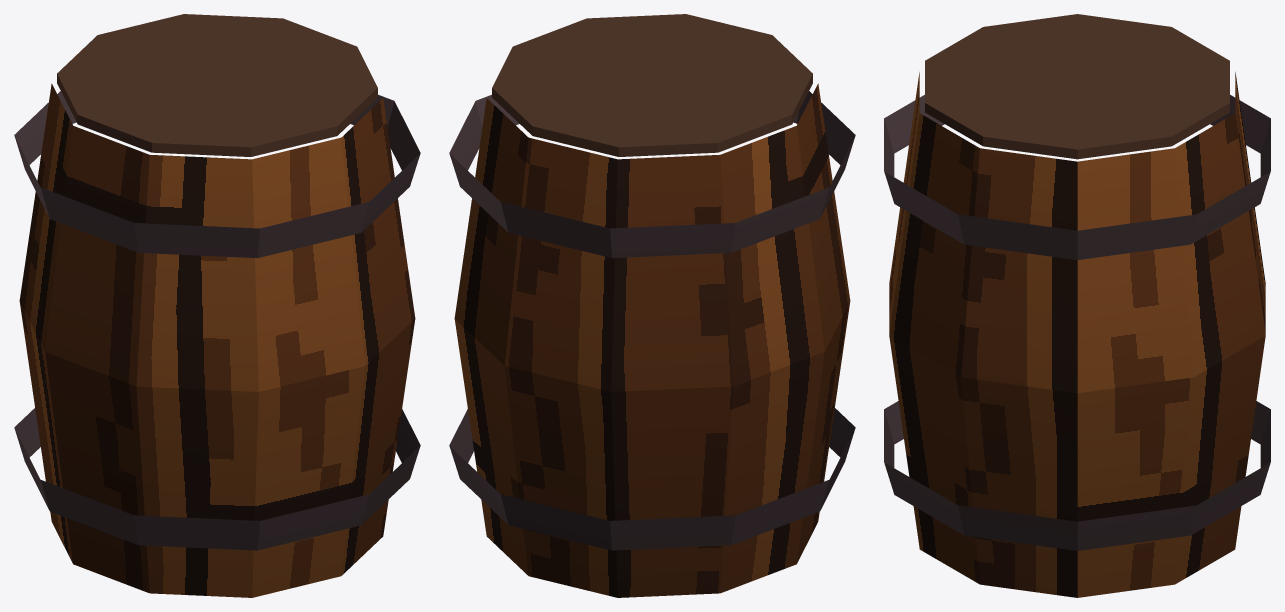
The model's file is barrel.glb.
3 renders of one model, left to right at view 1: azimuth 30°, elevation 25°; view 2: azimuth 150°, elevation 25°; view 3: azimuth 270°, elevation 25°, orthographic.
Parts seen in each view (by area): view 1: barrel; view 2: barrel; view 3: barrel.
Part boxes in pixels (box(x1,y1,x2,y2)): barrel: box(14, 14, 420, 597); barrel: box(449, 14, 855, 597); barrel: box(884, 14, 1270, 597).
Bounding box in the file's own units: 0.76 × 0.92 × 0.7228.
2 materials, 1 textured.
